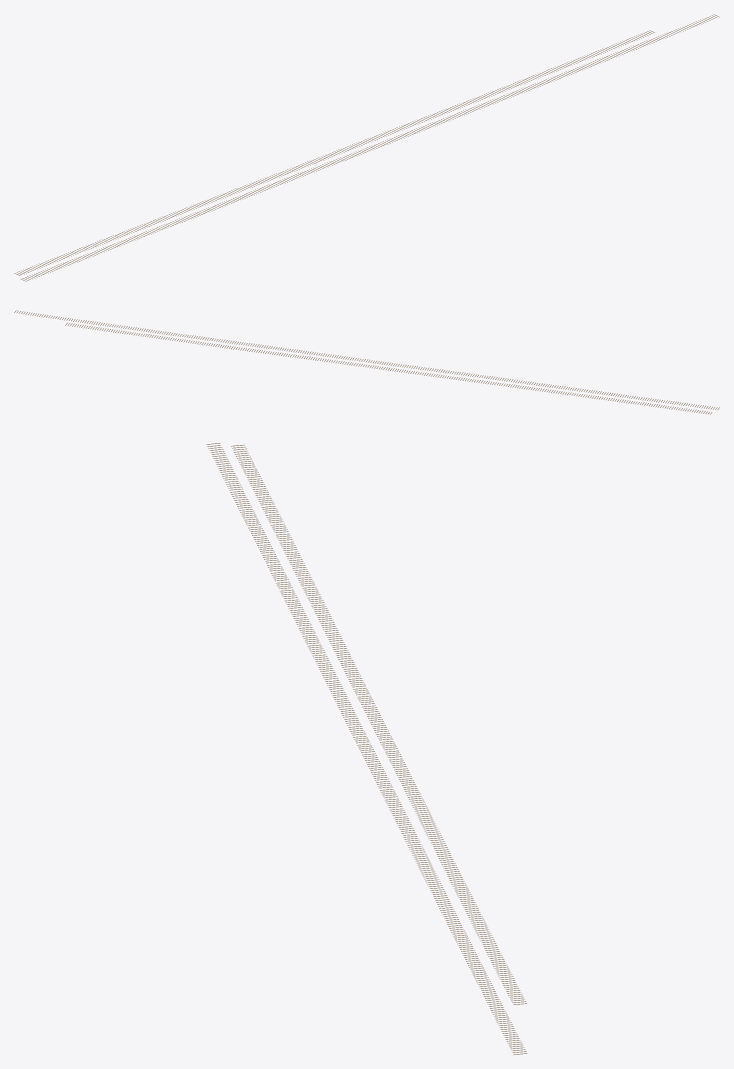
File: c_1623_17836_rail_sleeper.glb
The picture shows the model from 3 angles, top to bottom: view 1: azimuth 30°, elevation 25°; view 2: azimuth 150°, elevation 25°; view 3: azimuth 270°, elevation 25°; orthographic projection. The views are drawn at different scales.
Visible parts, largest first — view 1: geometry_0; view 2: geometry_0; view 3: geometry_0.
Boxes of the visible parts, x1=… form: geometry_0: x1=14, y1=14, x2=719, y2=281; geometry_0: x1=14, y1=310, x2=719, y2=414; geometry_0: x1=206, y1=443, x2=527, y2=1054.
Bounding box in the file's own units: 243 × 0.3949 × 53.87.
